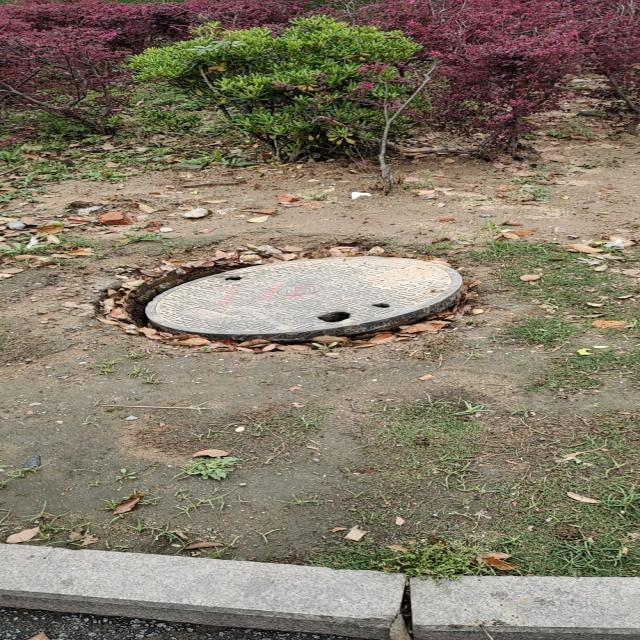Faulty: (101, 254, 472, 344)
